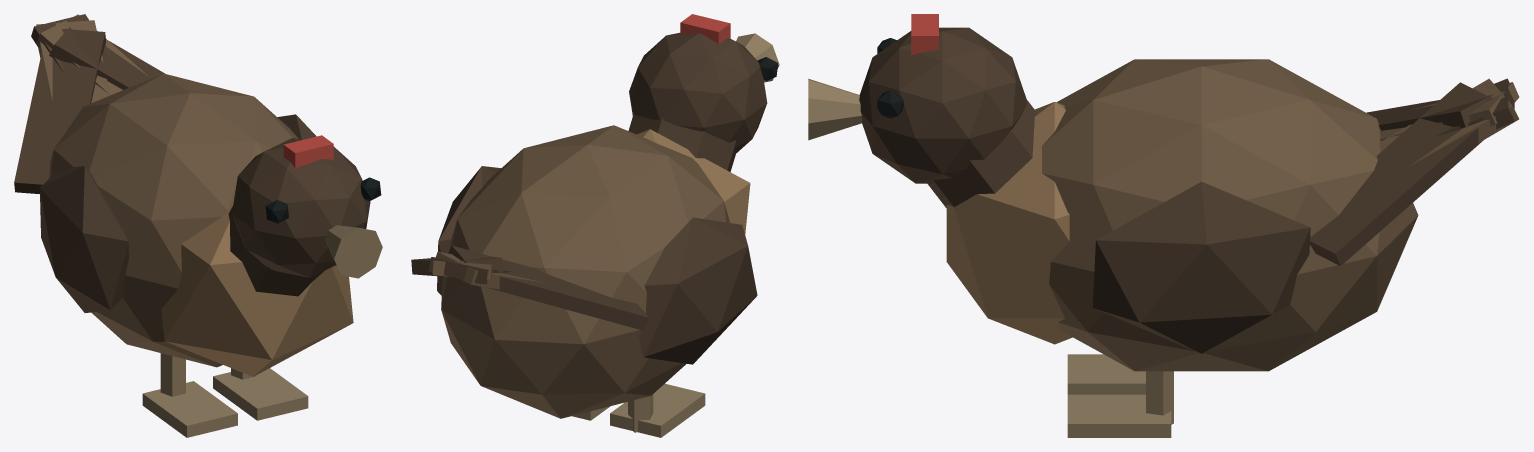
Rendered from fauna_grouse.glb.
The picture shows the model from 3 angles, left to right: view 1: azimuth 30°, elevation 25°; view 2: azimuth 150°, elevation 25°; view 3: azimuth 270°, elevation 25°; orthographic projection. The views are drawn at different scales.
Visible parts, largest first — view 1: fauna_grouse; view 2: fauna_grouse; view 3: fauna_grouse.
Boxes of the visible parts, x1,y1,x2,y2 form: fauna_grouse: (14,14,382,437); fauna_grouse: (411,14,779,437); fauna_grouse: (808,14,1519,437).
Bounding box in the file's own units: 0.4084 × 0.47 × 0.8005.
